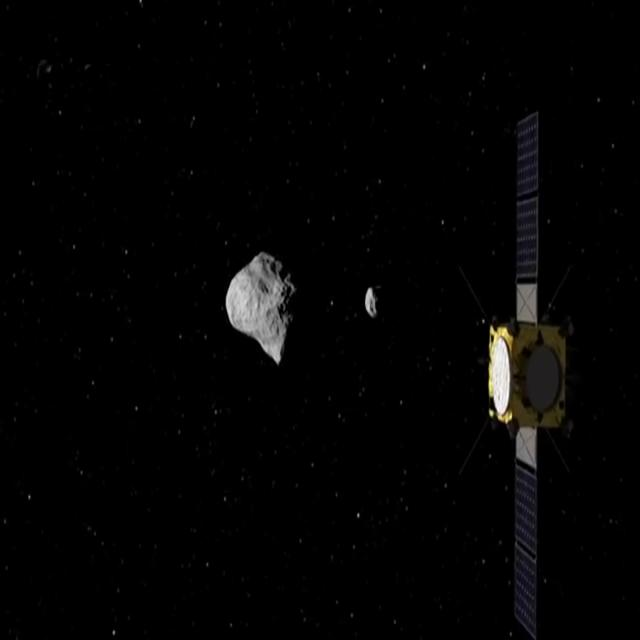large_debris: (216, 210, 302, 410), (358, 268, 379, 332)
medium_debris: (453, 0, 593, 640)
